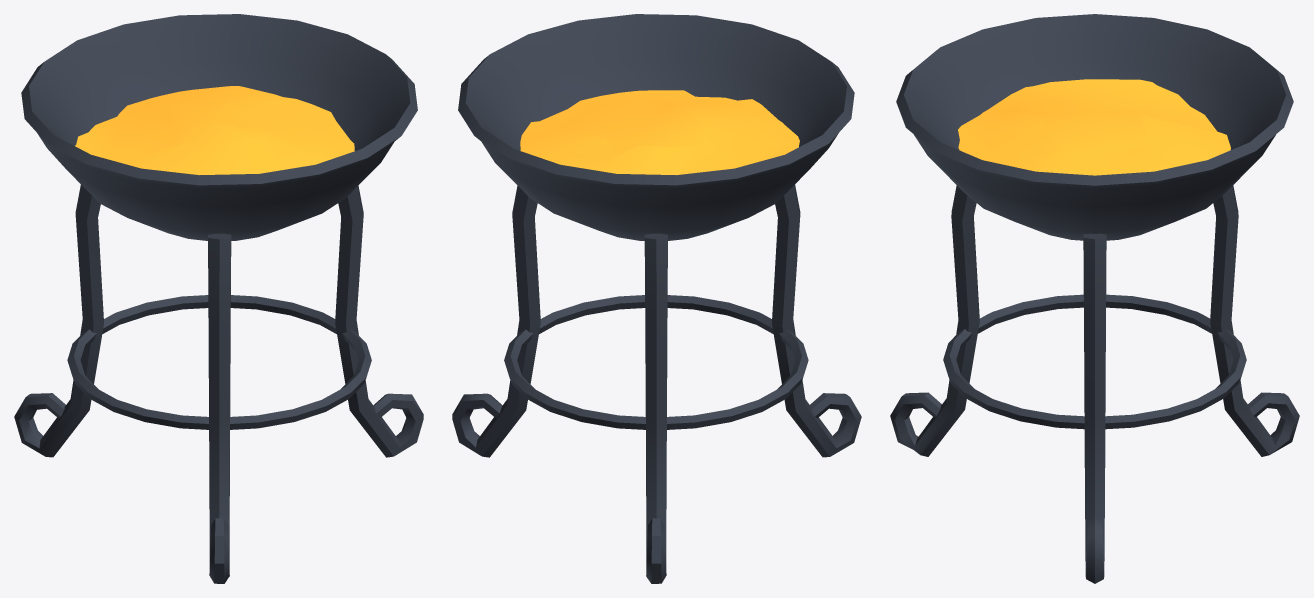
The model's file is iron_brazier.glb.
The picture shows the model from 3 angles, left to right: view 1: azimuth 30°, elevation 25°; view 2: azimuth 150°, elevation 25°; view 3: azimuth 270°, elevation 25°; orthographic projection.
Parts seen in each view (by area): view 1: iron_brazier; view 2: iron_brazier; view 3: iron_brazier.
Boxes of the visible parts, box(x1,y1,x2,y2) form: iron_brazier: box(14, 14, 423, 583); iron_brazier: box(452, 14, 861, 583); iron_brazier: box(890, 14, 1299, 583).
Bounding box in the file's own units: 1.13 × 1.16 × 1.07.
